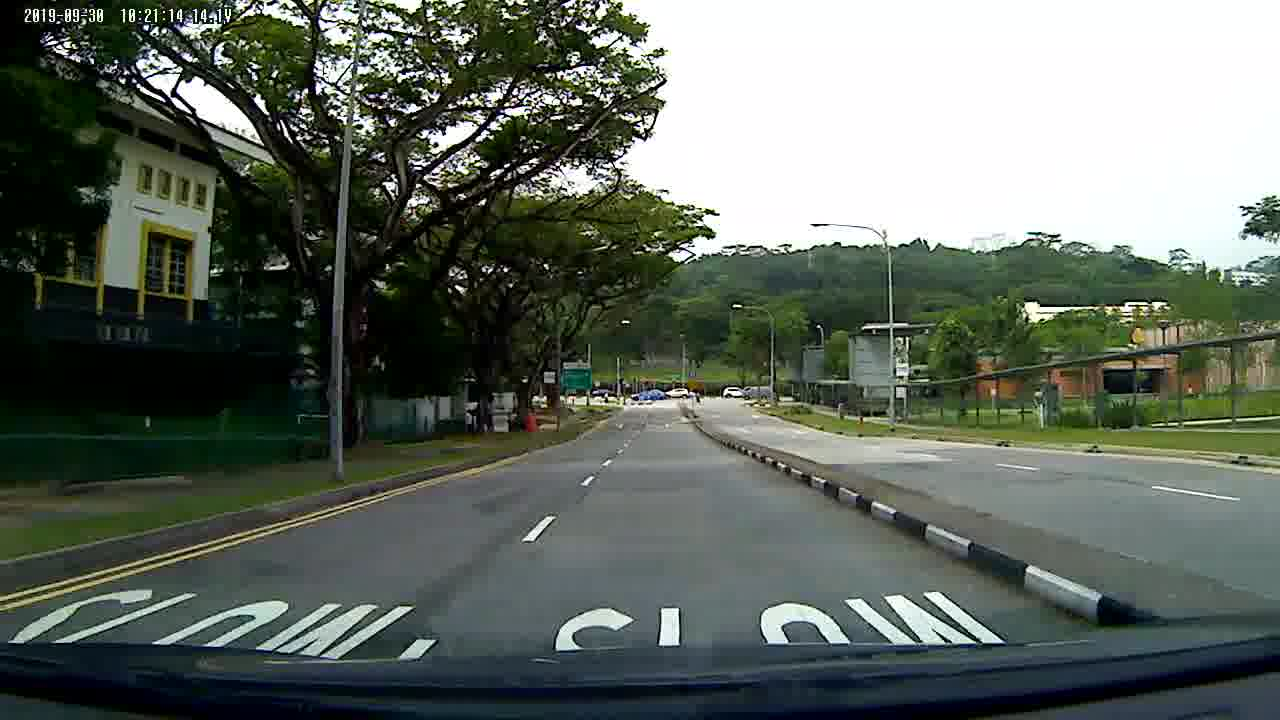car: (721, 385, 742, 401), (664, 388, 691, 400)
